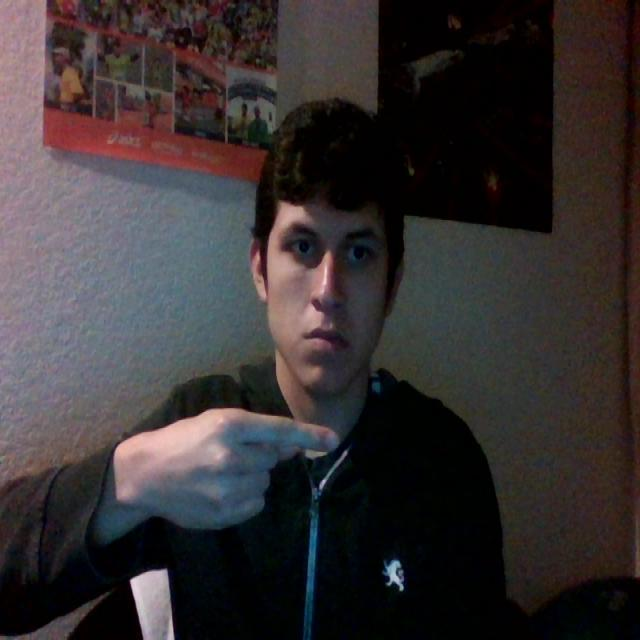G: (82, 368, 365, 558)
